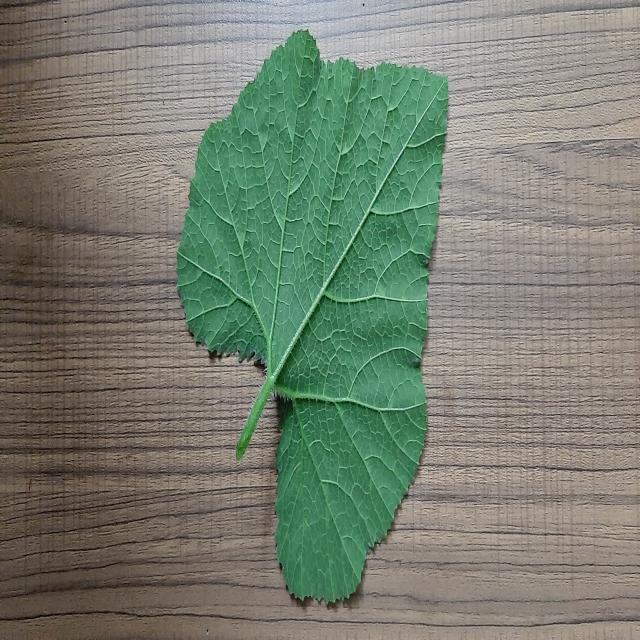pumpkin: (178, 30, 448, 602)
